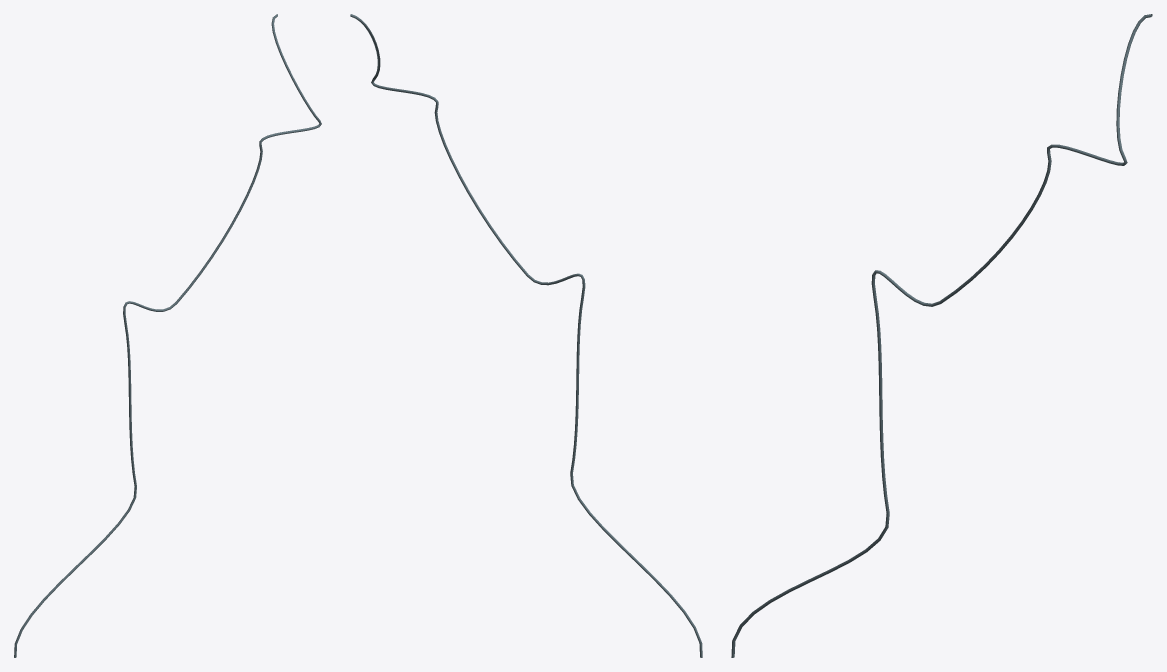
The model's file is ElecWire12.fbx.
3 views of the same model, side by side, from view 1: azimuth 30°, elevation 25°; view 2: azimuth 150°, elevation 25°; view 3: azimuth 330°, elevation 25° (orthographic). The views are drawn at different scales.
Parts seen in each view (by area): view 1: ElecWire12_LOD0; view 2: ElecWire12_LOD0; view 3: ElecWire12_LOD0.
Boxes of the visible parts, bbox=[...] form: ElecWire12_LOD0: bbox=[14, 14, 321, 657]; ElecWire12_LOD0: bbox=[350, 14, 702, 657]; ElecWire12_LOD0: bbox=[731, 14, 1152, 657].
Size of what is drawn, in the model's own units: 335 by 571 by 61.91.
